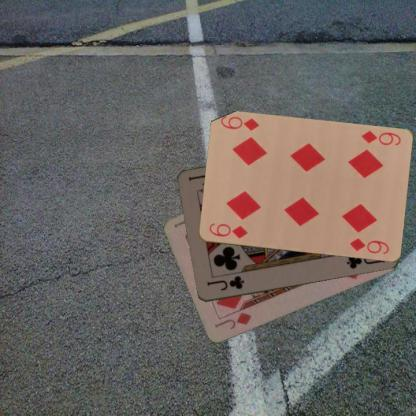6d: (206, 221, 249, 240), (358, 128, 402, 146)
Jc: (204, 274, 245, 292)
Jd: (212, 310, 253, 331)
